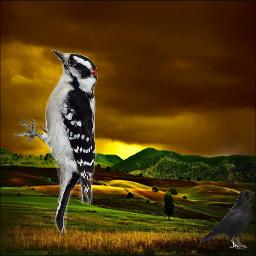Crow: (200, 189, 255, 250)
Woodpecker: (12, 47, 100, 234)
